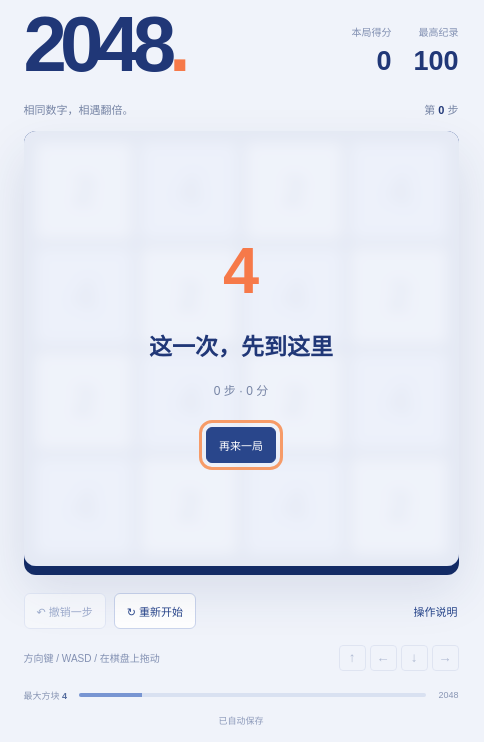
playable 2048 › shows game over for a restored full board and starts a fresh game
The width and height of the screenshot is (484, 742).
Expected: the heading "这一次，先到这里" is shown, [149,328,333,362]
Click the button "再来一局" at {"x": 241, "y": 445}, box [206,427,276,463]
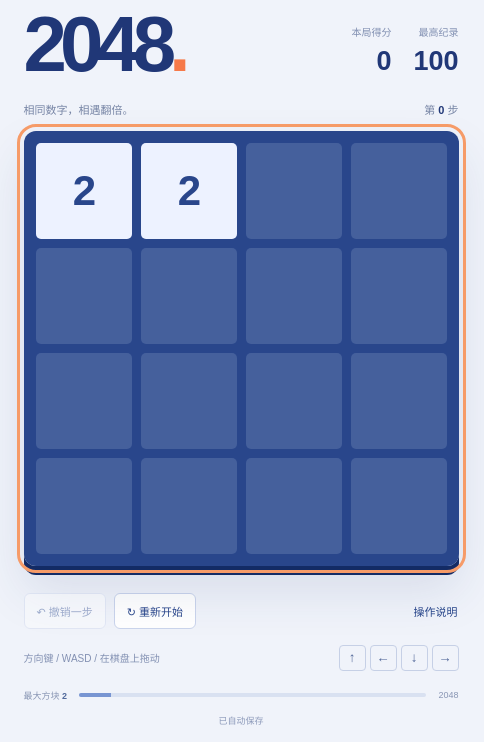
Expected: the heading "这一次，先到这里" is gone
